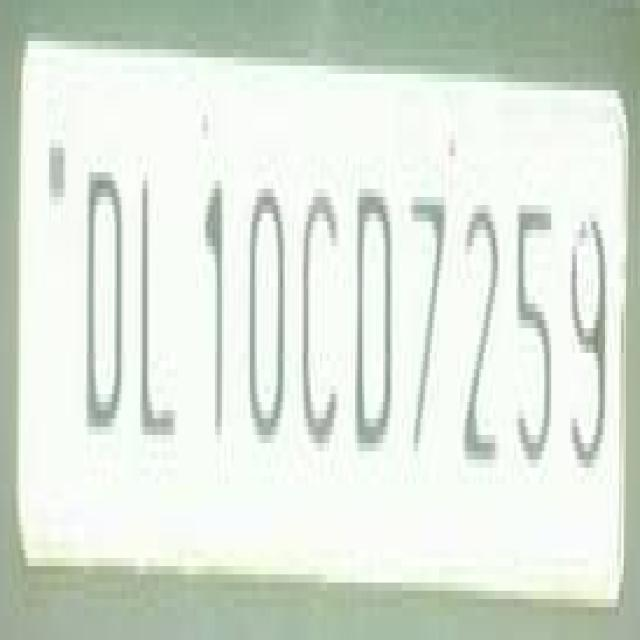plate: (2, 0, 608, 624)
